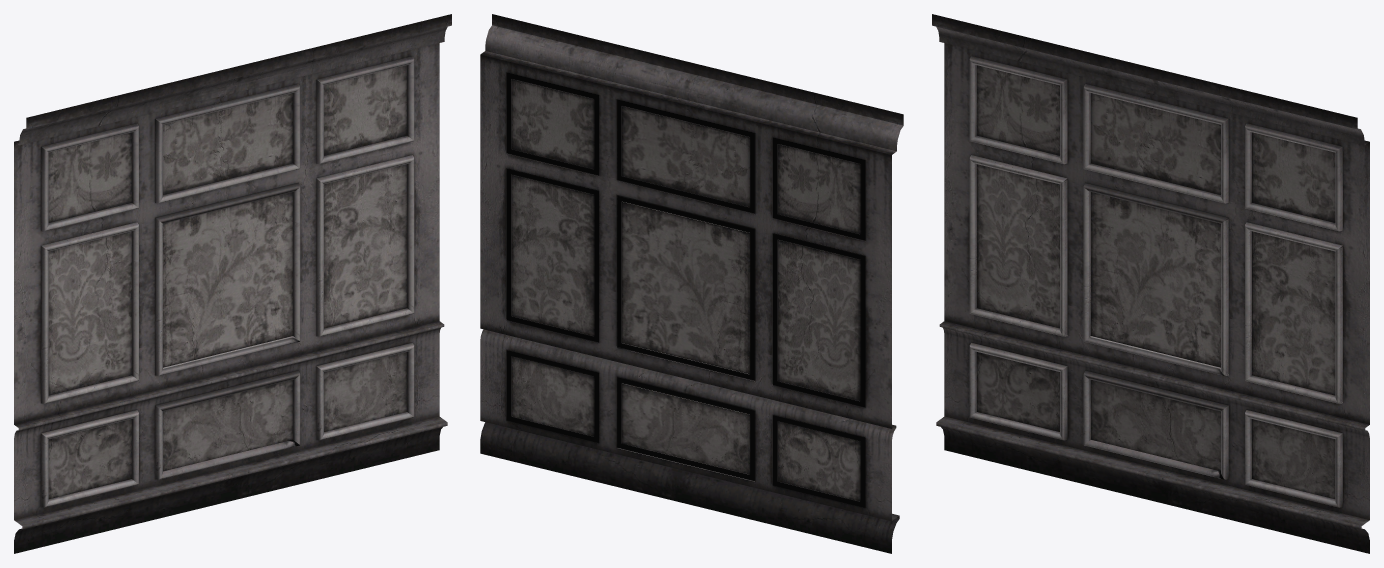
3 renders of one model, left to right at view 1: azimuth 30°, elevation 25°; view 2: azimuth 150°, elevation 25°; view 3: azimuth 330°, elevation 25°, orthographic. The views are drawn at different scales.
Visible parts, largest first — view 1: mansionbase_default; view 2: mansionbase_default; view 3: mansionbase_default.
Boxes of the visible parts, box(x1,y1,x2,y2) form: mansionbase_default: box(14, 14, 451, 553); mansionbase_default: box(480, 14, 903, 553); mansionbase_default: box(932, 14, 1369, 553).
Size of the model in its own units: 4 by 4 by 0.2045.
Materials: 1 (1 with a texture image).
